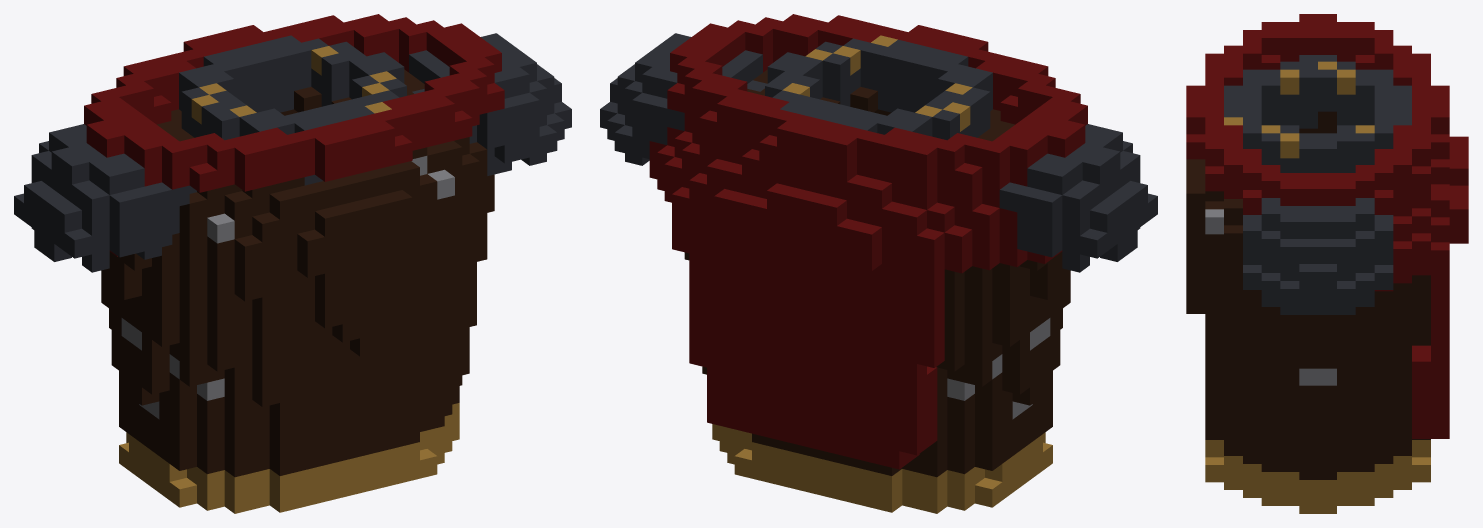
File: ring_sewn_jack_lod1.glb
3 renders of one model, left to right at view 1: azimuth 30°, elevation 25°; view 2: azimuth 150°, elevation 25°; view 3: azimuth 270°, elevation 25°, orthographic. The views are drawn at different scales.
Visible parts, largest first — view 1: ring_sewn_jack_lod1; view 2: ring_sewn_jack_lod1; view 3: ring_sewn_jack_lod1.
Boxes of the visible parts, x1=… form: ring_sewn_jack_lod1: x1=14, y1=14, x2=571, y2=513; ring_sewn_jack_lod1: x1=600, y1=14, x2=1157, y2=513; ring_sewn_jack_lod1: x1=1186, y1=14, x2=1468, y2=513.
Bounding box in the file's own units: 0.696 × 0.48 × 0.36.
